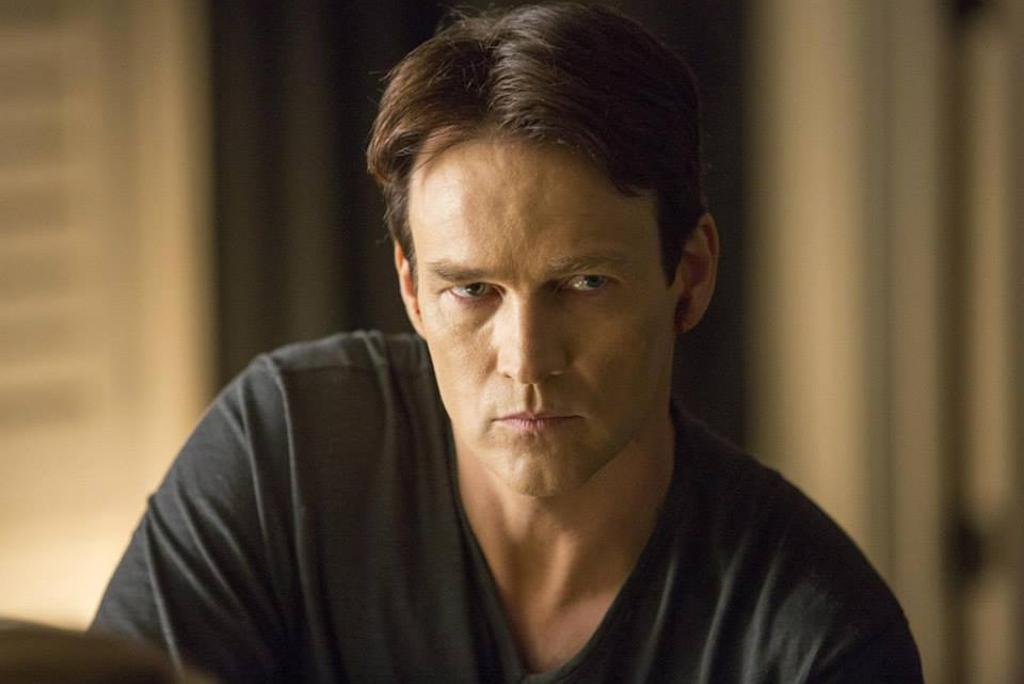face: (418, 144, 662, 494)
